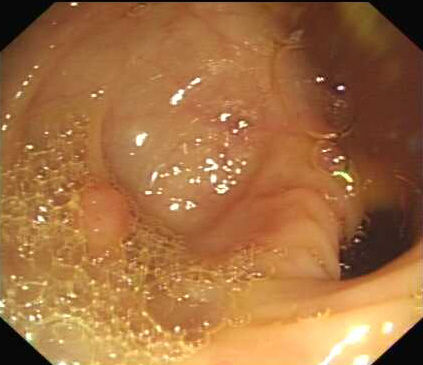adenoma: (74, 182, 134, 252)
